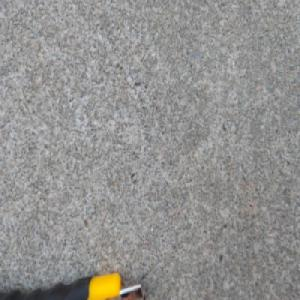Cutter: (0, 271, 148, 300)
